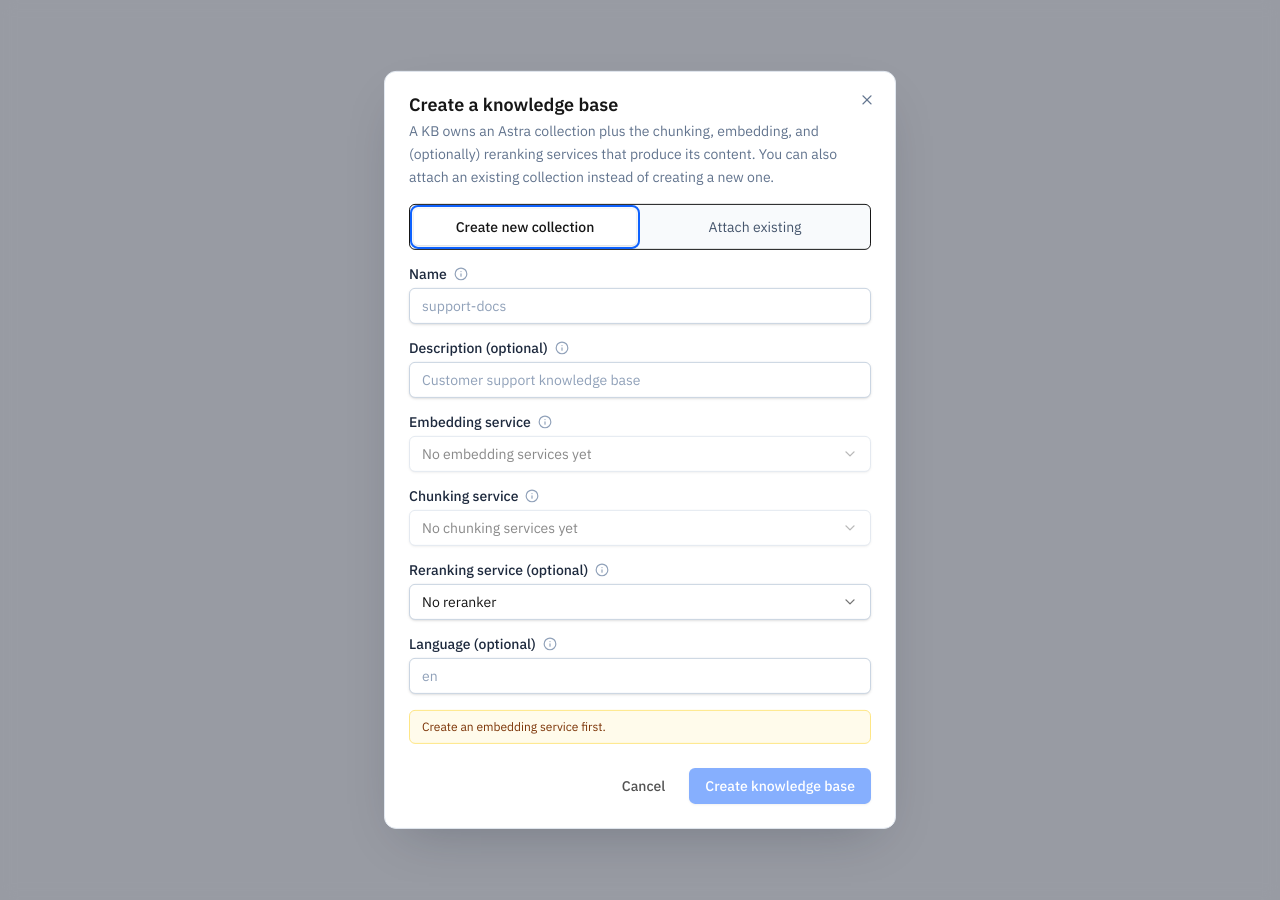
CreateKnowledgeBaseDialog › switches to 'attach' mode and shows the collection picker
Click the tab "Attach existing". click: click(755, 227)
box: [644,209,866,245]
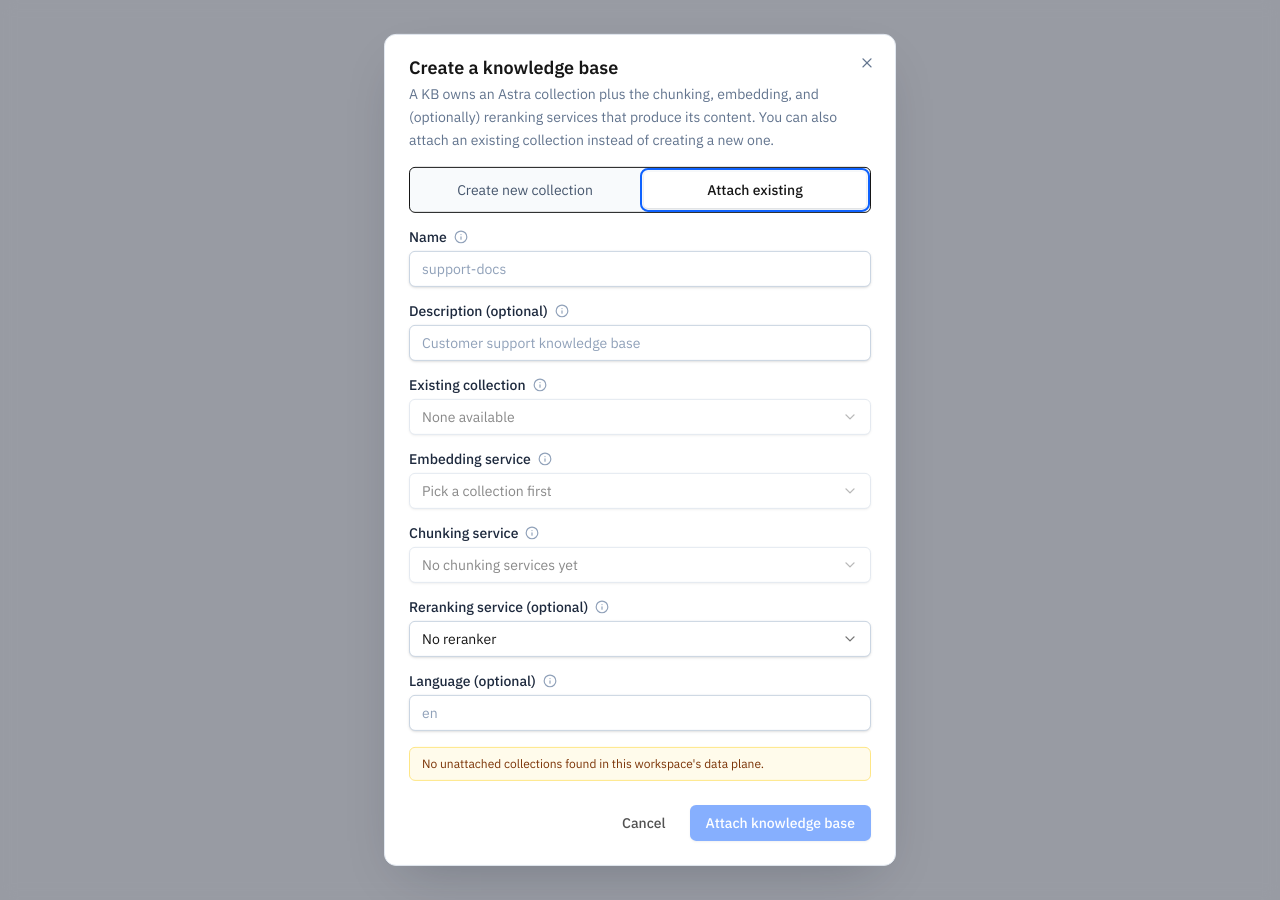
Expected: the text "Existing collection" is shown, [409,378,526,392]
Expected: the button "Attach knowledge base" is shown, [690,805,871,841]
